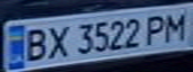2: (106, 17, 130, 52), (121, 15, 145, 48)
3: (72, 20, 96, 56)
5: (90, 18, 112, 53)
B: (18, 25, 51, 64)
M: (160, 8, 190, 43)
P: (142, 11, 172, 46)
X: (42, 22, 72, 61)
